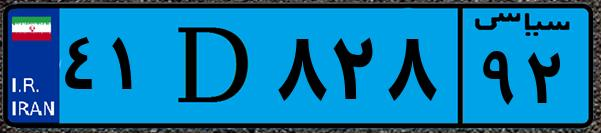1: (110, 28, 158, 98)
2: (330, 28, 385, 110), (525, 38, 570, 115)
4: (57, 26, 110, 100)
8: (270, 28, 330, 110), (385, 28, 445, 110)
9: (475, 38, 525, 113)
D: (158, 12, 270, 120)
